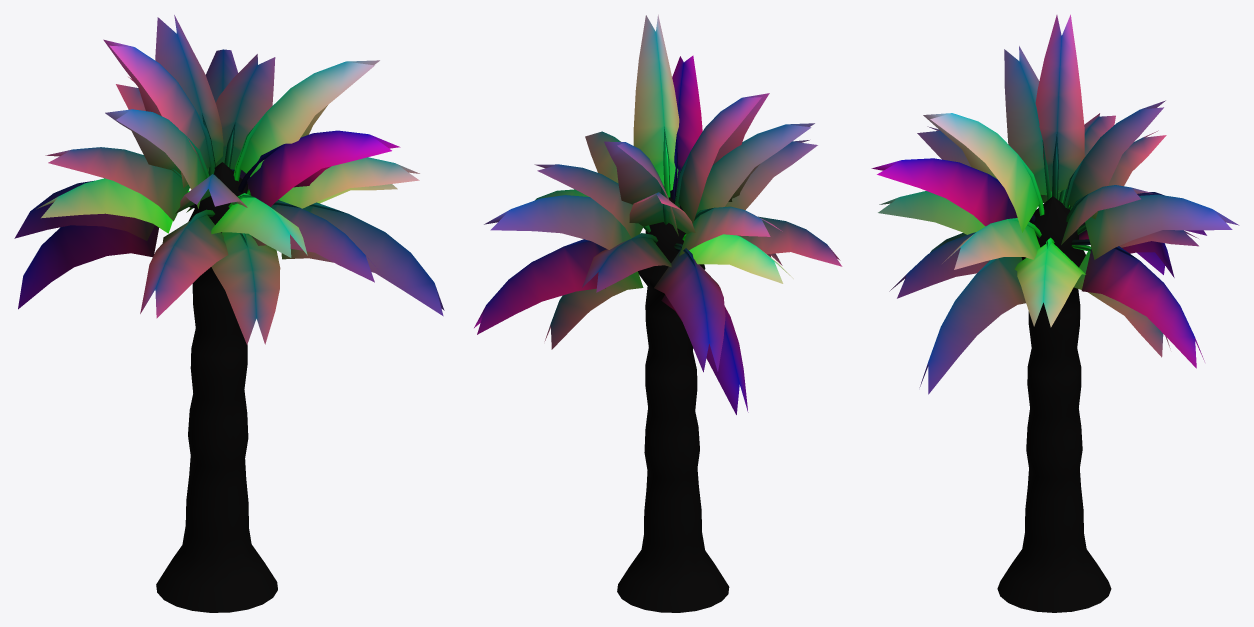
File: M_Palm_2_6.fbx
The picture shows the model from 3 angles, left to right: view 1: azimuth 30°, elevation 25°; view 2: azimuth 150°, elevation 25°; view 3: azimuth 270°, elevation 25°; orthographic projection. The views are drawn at different scales.
Parts seen in each view (by area): view 1: Palm_2_6; view 2: Palm_2_6; view 3: Palm_2_6.
Boxes of the visible parts, <box> form: Palm_2_6: <box>14,15,444,612</box>; Palm_2_6: <box>474,14,842,612</box>; Palm_2_6: <box>871,14,1239,612</box>.
Bounding box in the file's own units: 519 × 866 × 550.
